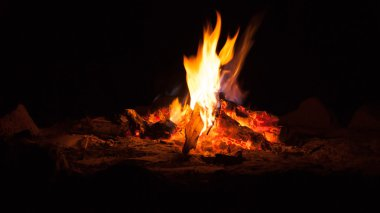fire: (175, 17, 246, 140)
